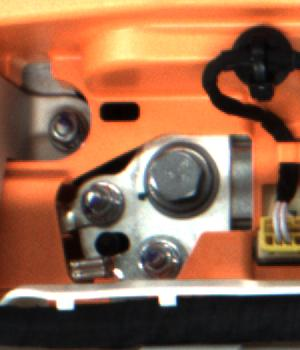nut_b: (142, 133, 222, 223)
screw_s: (76, 179, 124, 222), (136, 231, 177, 277), (44, 111, 81, 146)
